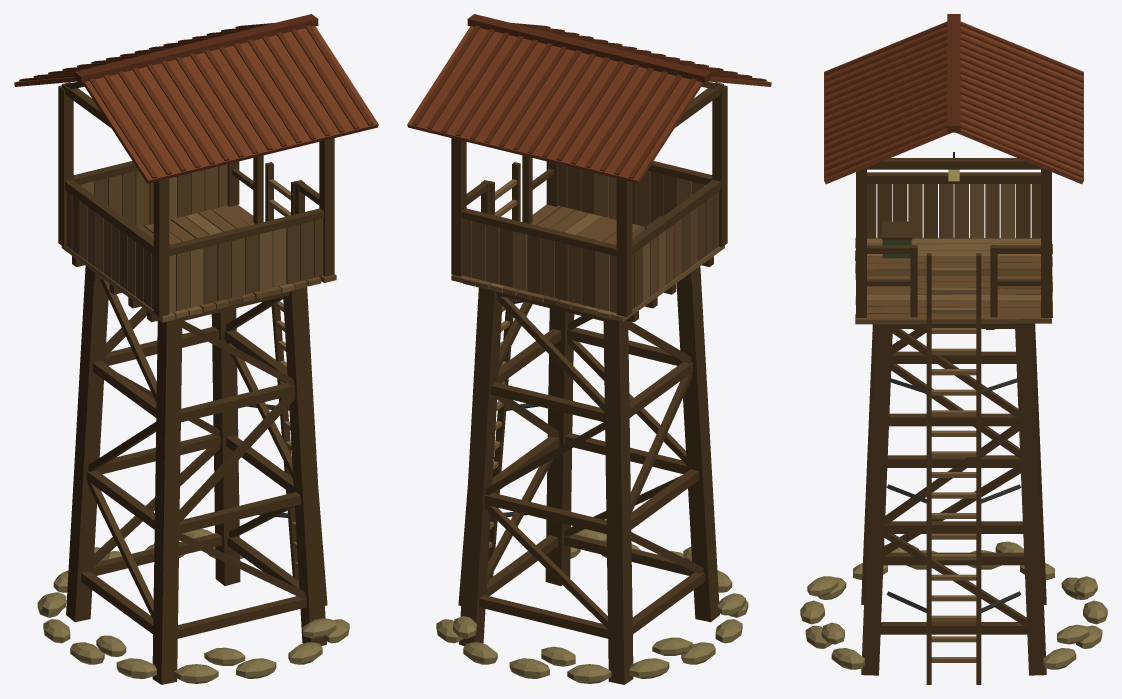
Rendered from wachttoren.glb.
3 views of the same model, side by side, from view 1: azimuth 30°, elevation 25°; view 2: azimuth 150°, elevation 25°; view 3: azimuth 270°, elevation 25° (orthographic). The views are drawn at different scales.
Visible parts, largest first — view 1: Toren_paal, Toren_dak, Toren_dakrib, Toren_plank2, Toren_plank1, Toren_zak, Toren_plank3; view 2: Toren_paal, Toren_dak, Toren_dakrib, Toren_plank1, Toren_plank2, Toren_zak, Toren_plank3; view 3: Toren_paal, Toren_dakrib, Toren_dak, Toren_plank1, Toren_plank3, Toren_zak, Toren_plank2, Toren_metaal.
Part boxes in pixels (x1,y1,x2,y2): Toren_paal: (58, 81, 334, 684); Toren_dak: (14, 26, 378, 183); Toren_dakrib: (19, 14, 373, 178); Toren_plank2: (67, 171, 323, 309); Toren_plank1: (80, 164, 336, 312); Toren_zak: (37, 528, 349, 683); Toren_plank3: (61, 176, 298, 568); Toren_paal: (451, 81, 727, 684); Toren_dak: (407, 26, 771, 183); Toren_dakrib: (412, 14, 766, 178); Toren_plank1: (451, 170, 705, 312); Toren_plank2: (499, 164, 718, 309); Toren_zak: (436, 529, 748, 683); Toren_plank3: (489, 173, 724, 548); Toren_paal: (856, 158, 1051, 684); Toren_dakrib: (824, 14, 1083, 177); Toren_dak: (824, 21, 1083, 184); Toren_plank1: (855, 184, 1052, 324); Toren_plank3: (855, 184, 1052, 662); Toren_zak: (800, 541, 1107, 669); Toren_plank2: (855, 184, 1052, 279); Toren_metaal: (886, 152, 1021, 612).
Bounding box in the file's own units: 3.89 × 8.59 × 4.22.
